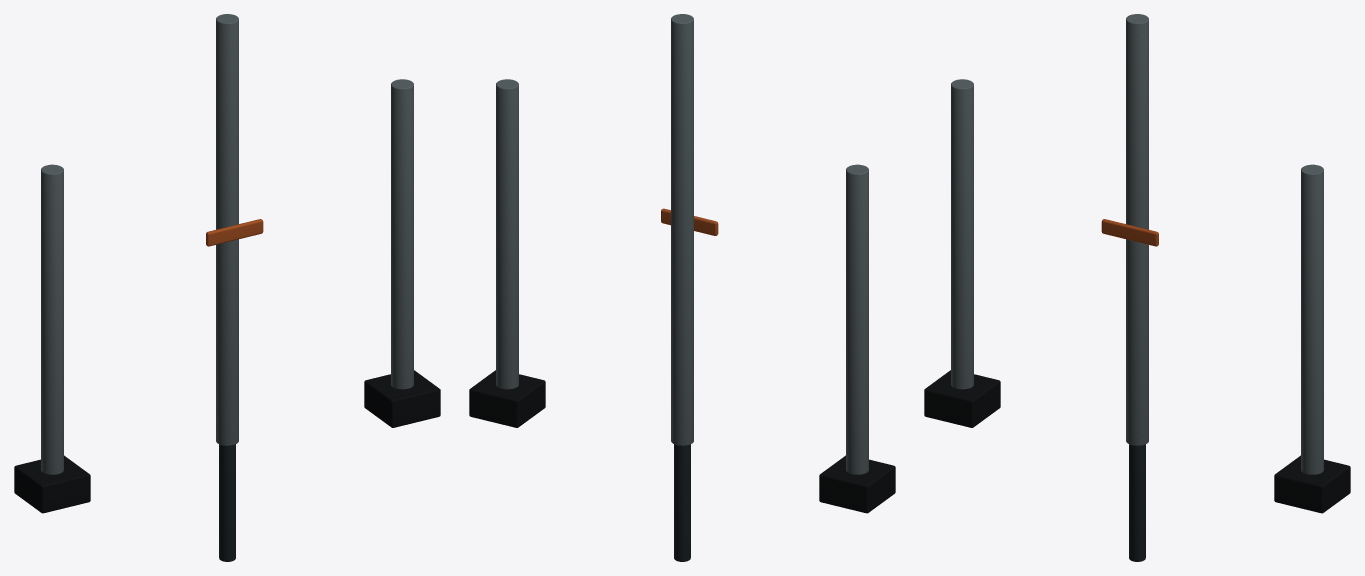
File: HandRailSection.fbx
3 renders of one model, left to right at view 1: azimuth 30°, elevation 25°; view 2: azimuth 150°, elevation 25°; view 3: azimuth 330°, elevation 25°, orthographic.
Parts seen in each view (by area): view 1: HandRailSection_Mesh; view 2: HandRailSection_Mesh; view 3: HandRailSection_Mesh.
Part boxes in pixels (x1,y1,x2,y2): HandRailSection_Mesh: (14,14,440,561); HandRailSection_Mesh: (469,14,895,561); HandRailSection_Mesh: (924,14,1350,561).
Bounding box in the file's own units: 178 × 230 × 22.
